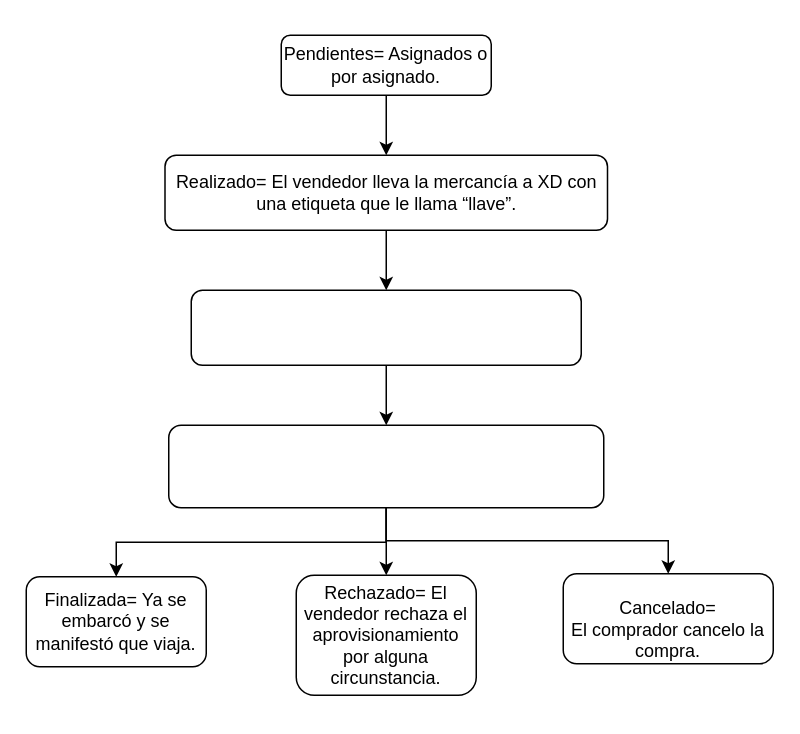
This 800x734 diagram has some shape labels left out. Each missing label, with the centre of its shape:
"Entrego= El producto se encuentra embalado y con la etiqueta LP." goes at point 385,466.
"Etiqueta Generada= El modulo de XD esta trabajando en la mercancía." goes at point 385,327.
